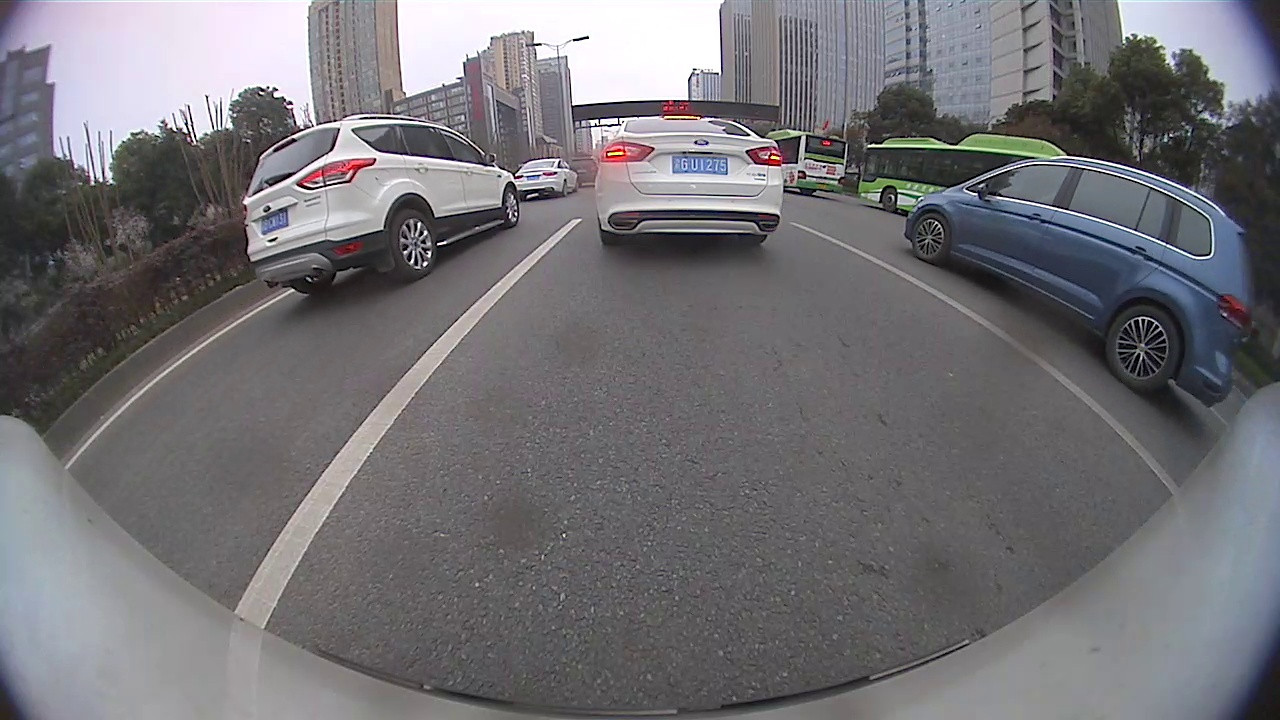bus: (856, 133, 1067, 214), (774, 129, 835, 196)
car: (903, 154, 1254, 409), (242, 113, 521, 295), (595, 114, 785, 248), (514, 158, 579, 201), (570, 157, 598, 186)
front: (908, 213, 951, 267), (503, 183, 528, 226), (879, 186, 899, 215)
rear: (1103, 306, 1180, 394), (389, 208, 441, 281)
